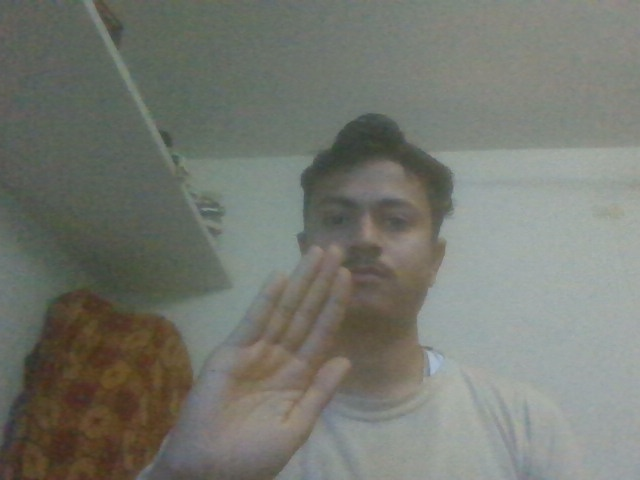Hello: (163, 225, 366, 477)
